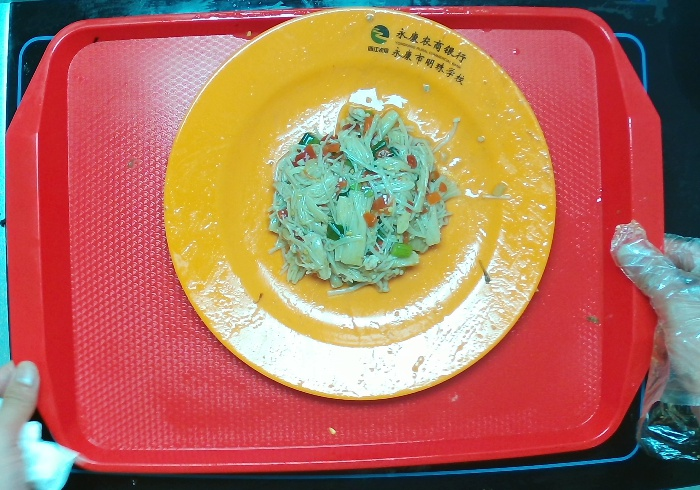YKMZ-Ju_Se_Mian_Pan: (157, 4, 565, 403)
